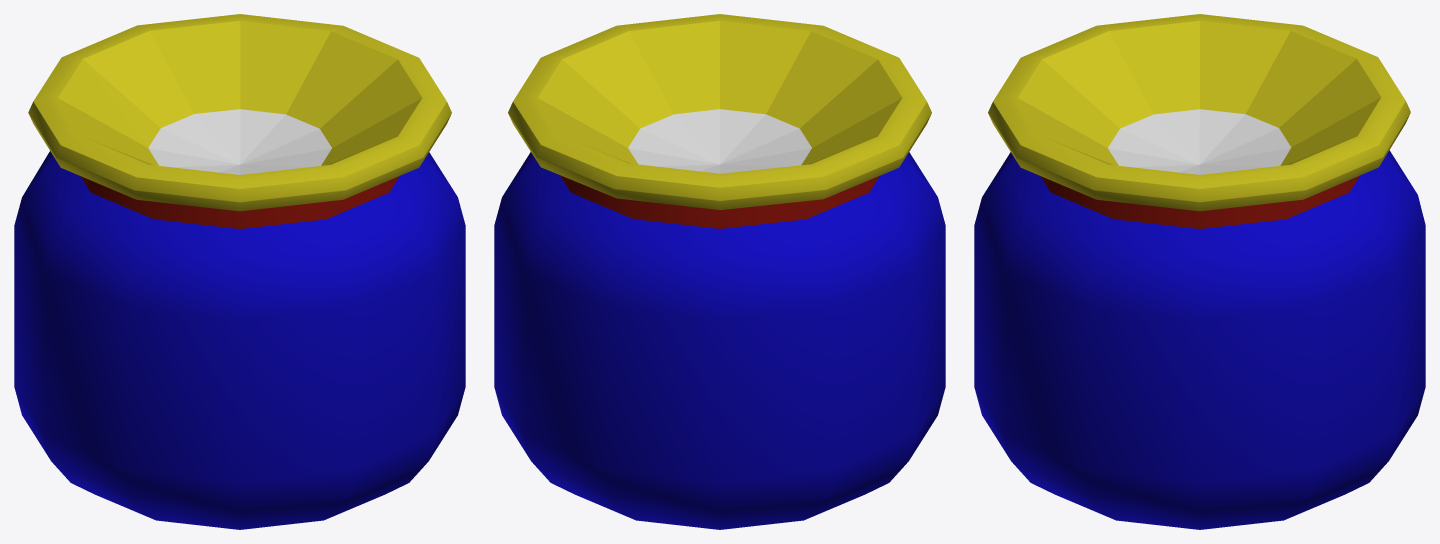
File: Pote.fbx
3 views of the same model, side by side, from view 1: azimuth 30°, elevation 25°; view 2: azimuth 150°, elevation 25°; view 3: azimuth 270°, elevation 25° (orthographic).
Parts seen in each view (by area): view 1: Capsule001; view 2: Capsule001; view 3: Capsule001.
Boxes of the visible parts, <box> form: Capsule001: <box>14,14,465,529</box>; Capsule001: <box>494,14,945,529</box>; Capsule001: <box>974,14,1425,529</box>.
Size of the model in its own units: 0.7684 by 0.6806 by 0.7684.
